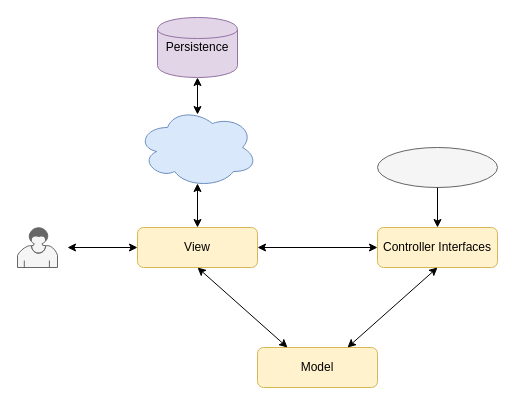
Image size: 515x405. Some labels were removed from this diagram. The shapes that lost their labels are listed below. From the top down, each one's centre as x and y in pixels, then its label:
At [197,147]: "AWS".
At [437,167]: "Controllers".
